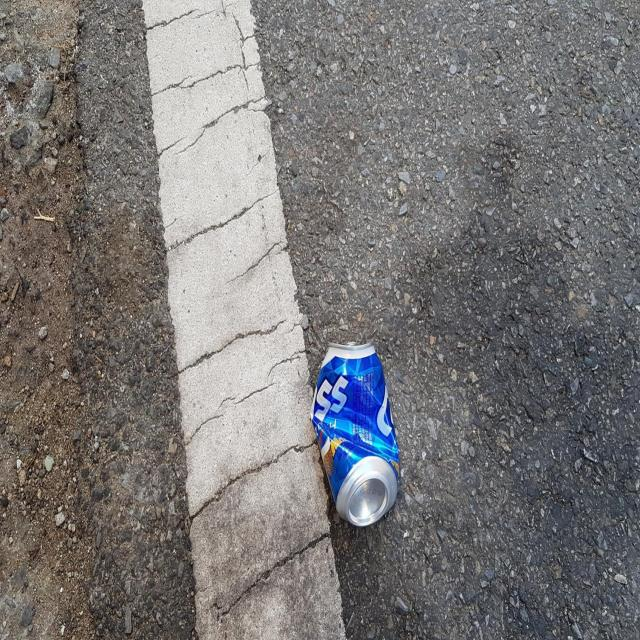can: (311, 343, 400, 526)
